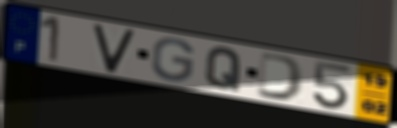1: (38, 15, 61, 64)
5: (310, 58, 354, 112)
D: (254, 50, 307, 103)
G: (149, 36, 197, 83)
Q: (203, 46, 245, 93)
V: (91, 23, 138, 75)
